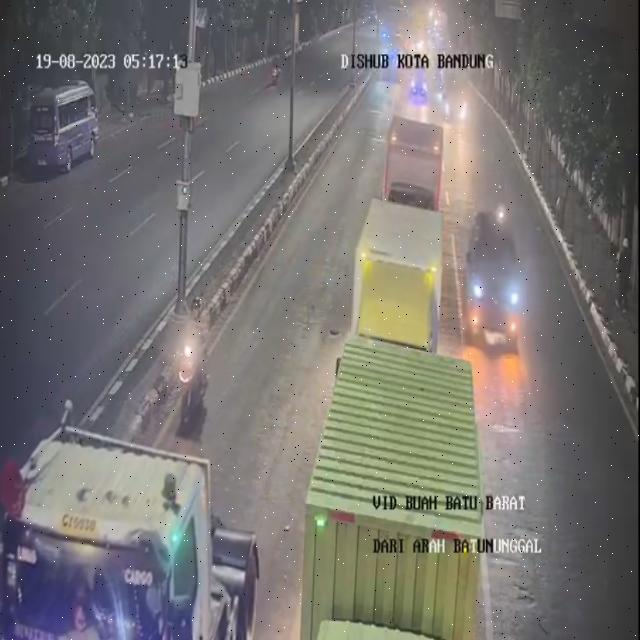cars: (463, 209, 526, 359), (443, 74, 470, 132), (406, 66, 425, 108)
motorcycle: (489, 182, 508, 242)
truck: (0, 406, 256, 636), (312, 319, 493, 636), (351, 202, 437, 348), (381, 108, 446, 216)
